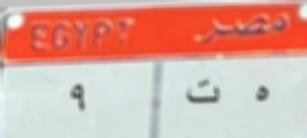9: (67, 81, 90, 116)
haa: (250, 81, 274, 107)
taa: (185, 77, 225, 110)
